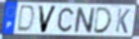C: (57, 7, 74, 34)
D: (16, 4, 36, 34), (92, 7, 113, 35)
K: (114, 7, 132, 35)
N: (73, 6, 96, 34)
V: (37, 5, 58, 35)
